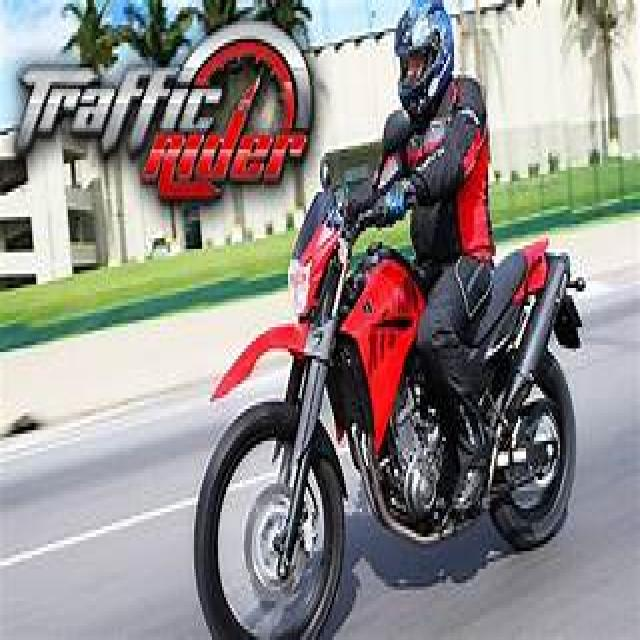Two Wheeler: (195, 187, 465, 637), (195, 198, 465, 638), (475, 240, 584, 548), (480, 240, 576, 549), (371, 118, 408, 197)
